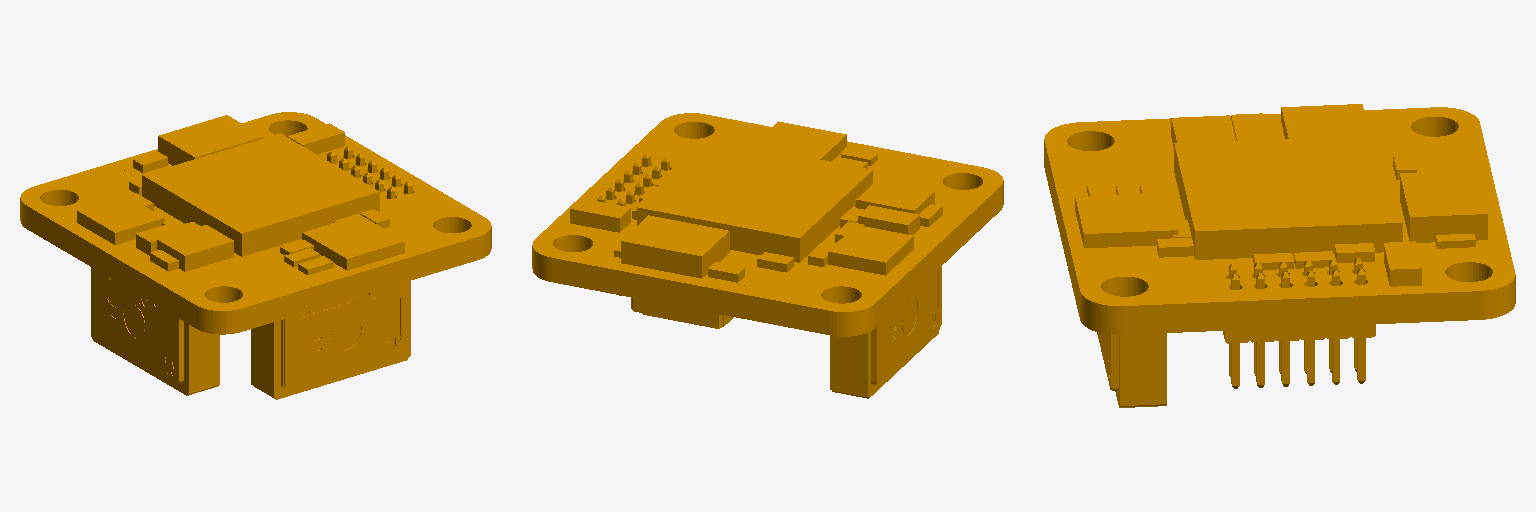
URDF robot description (imu):
<?xml version="1.0"?>
<robot name="imu">
    <link name="imu">
        <visual>
            <origin  rpy="0 0 1.670" xyz="0 0 0" />
            <geometry>
                <mesh filename="package://dmu_ros/meshes/dmu11.stl" scale="0.1 0.1 0.1"/>
            </geometry>
        </visual>
    </link>
</robot>

--- Render facts (derived) ---
The picture shows the robot from 3 angles, left to right: view 1: azimuth 30°, elevation 25°; view 2: azimuth 150°, elevation 25°; view 3: azimuth 270°, elevation 25°; orthographic projection.
Robot: imu — 1 links, 0 joints (none); root link imu; default pose: every joint at zero.
Visible links, largest first — view 1: imu; view 2: imu; view 3: imu.
Boxes of the visible links, <box> form: imu: <box>20,112,491,399</box>; imu: <box>532,113,1003,398</box>; imu: <box>1044,104,1515,407</box>.
Size in the robot's own frame: 2.37 by 2.37 by 0.99 metres.
1 mesh visuals loaded from 1 distinct referenced files (1 binary STL).